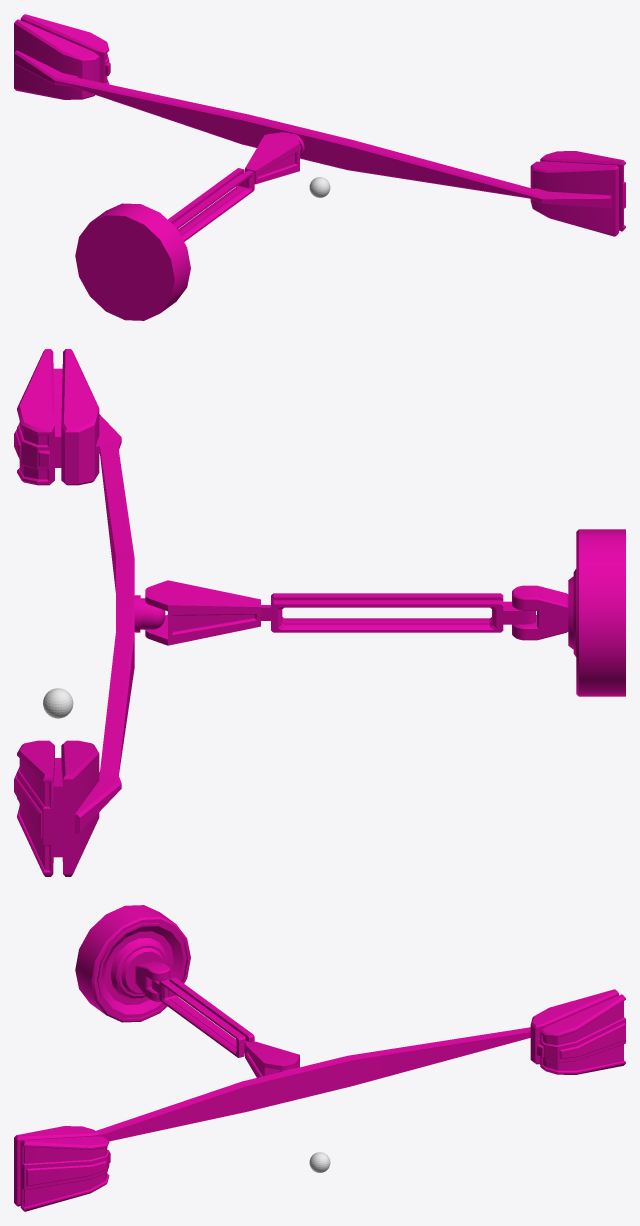
File: Manual Holder.fbx
The picture shows the model from 3 angles, top to bottom: view 1: azimuth 30°, elevation 25°; view 2: azimuth 150°, elevation 25°; view 3: azimuth 270°, elevation 25°; orthographic projection. The views are drawn at different scales.
Visible parts, largest first — view 1: Cube, Cylinder.001, Cube.002, Cube.001; view 2: Cube, Cylinder.001, Cube.002, Cube.001, Cube.003, Cylinder, Sphere; view 3: Cube, Cylinder.001, Cube.002, Cube.001, Cube.003.
Boxes of the visible parts, x1,y1,x2,y2 form: Cube: [14, 14, 625, 236]; Cylinder.001: [75, 203, 190, 320]; Cube.002: [167, 168, 254, 241]; Cube.001: [245, 132, 299, 184]; Cube: [14, 349, 134, 876]; Cylinder.001: [568, 529, 625, 696]; Cube.002: [271, 593, 535, 632]; Cube.001: [145, 580, 270, 645]; Cube.003: [512, 585, 568, 640]; Cylinder: [134, 595, 165, 632]; Sphere: [43, 688, 73, 718]; Cube: [14, 989, 625, 1211]; Cylinder.001: [75, 905, 190, 1022]; Cube.002: [151, 977, 254, 1057]; Cube.001: [244, 1041, 299, 1077]; Cube.003: [135, 961, 169, 1001].
Size of the model in its own units: 21.98 by 5.45 by 24.46.
